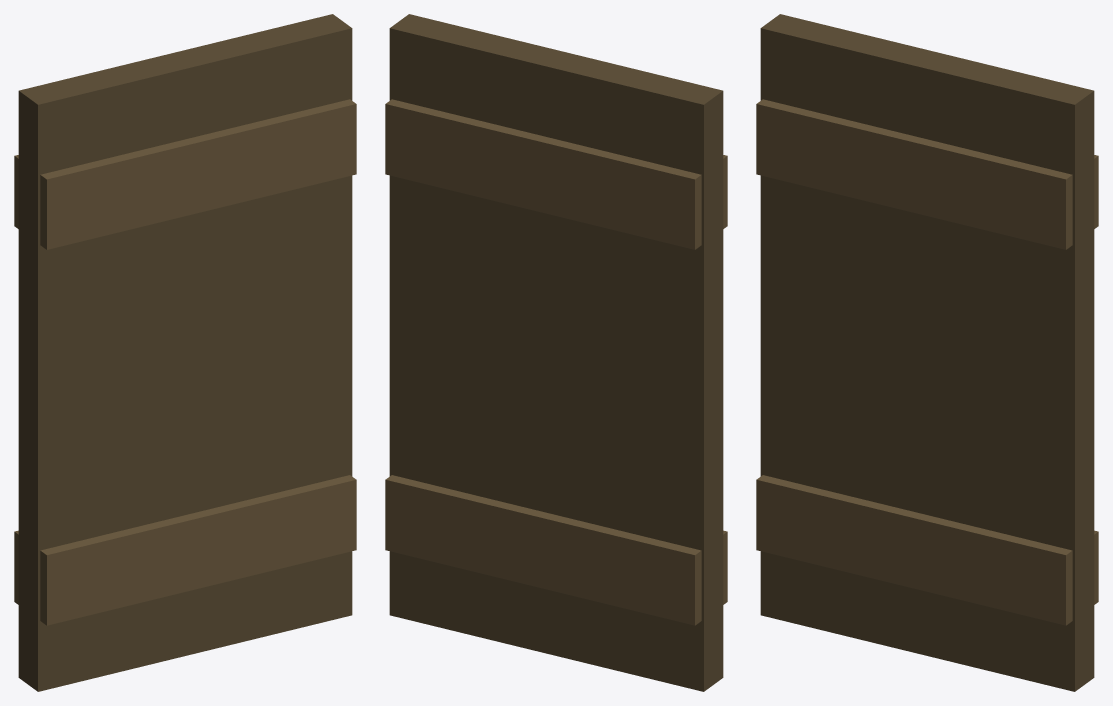
File: roman_door_2.fbx
3 renders of one model, left to right at view 1: azimuth 30°, elevation 25°; view 2: azimuth 150°, elevation 25°; view 3: azimuth 330°, elevation 25°, orthographic.
Parts seen in each view (by area): view 1: Cube.025; view 2: Cube.025; view 3: Cube.025.
Part boxes in pixels (<box>): Cube.025: <box>14,14,356,691</box>; Cube.025: <box>385,14,727,691</box>; Cube.025: <box>756,14,1098,691</box>.
Size of the model in its own units: 140 by 250 by 25.
